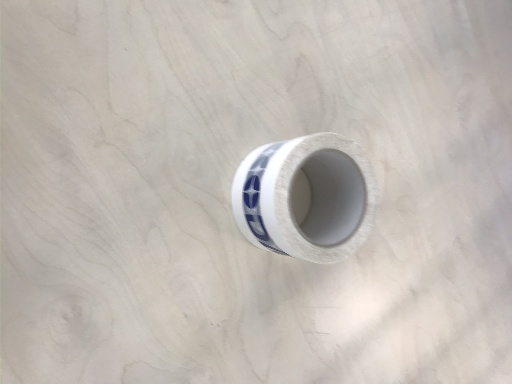Nastro: (224, 119, 384, 274)
